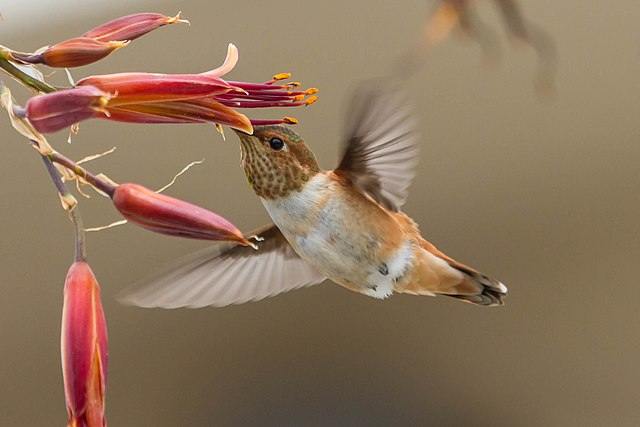selasphorus sasin: (121, 89, 503, 313)
